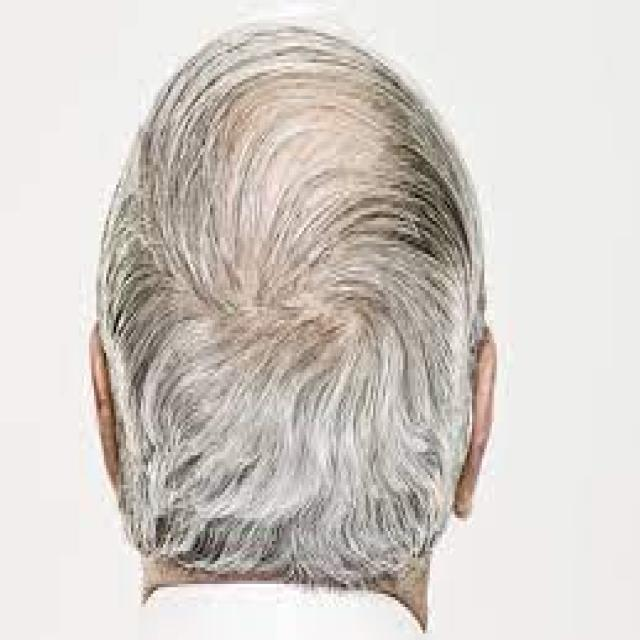Non_Helmet: (72, 6, 522, 559)
